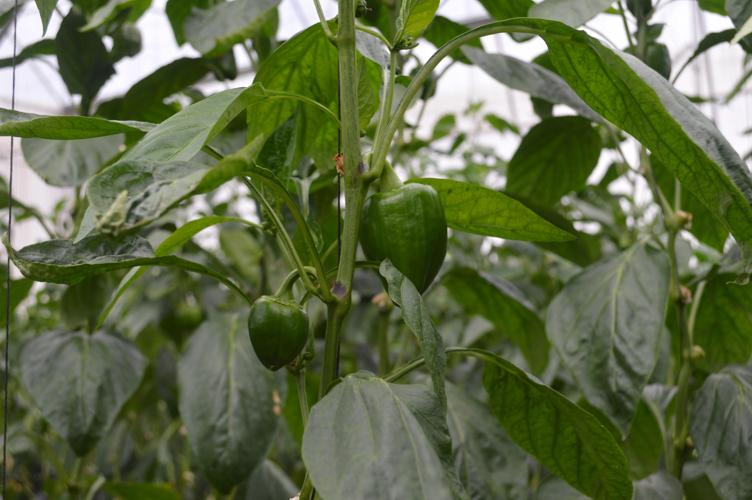BellPepper: (345, 182, 448, 312), (242, 292, 319, 380)
